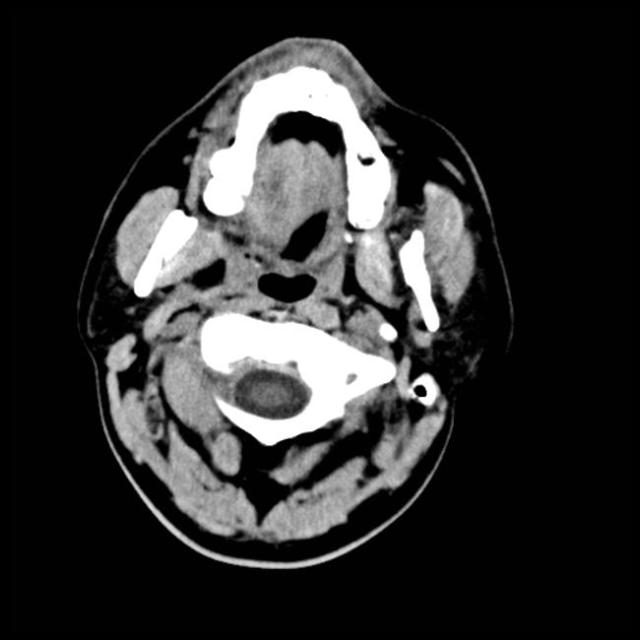lesion: (79, 36, 515, 562)
